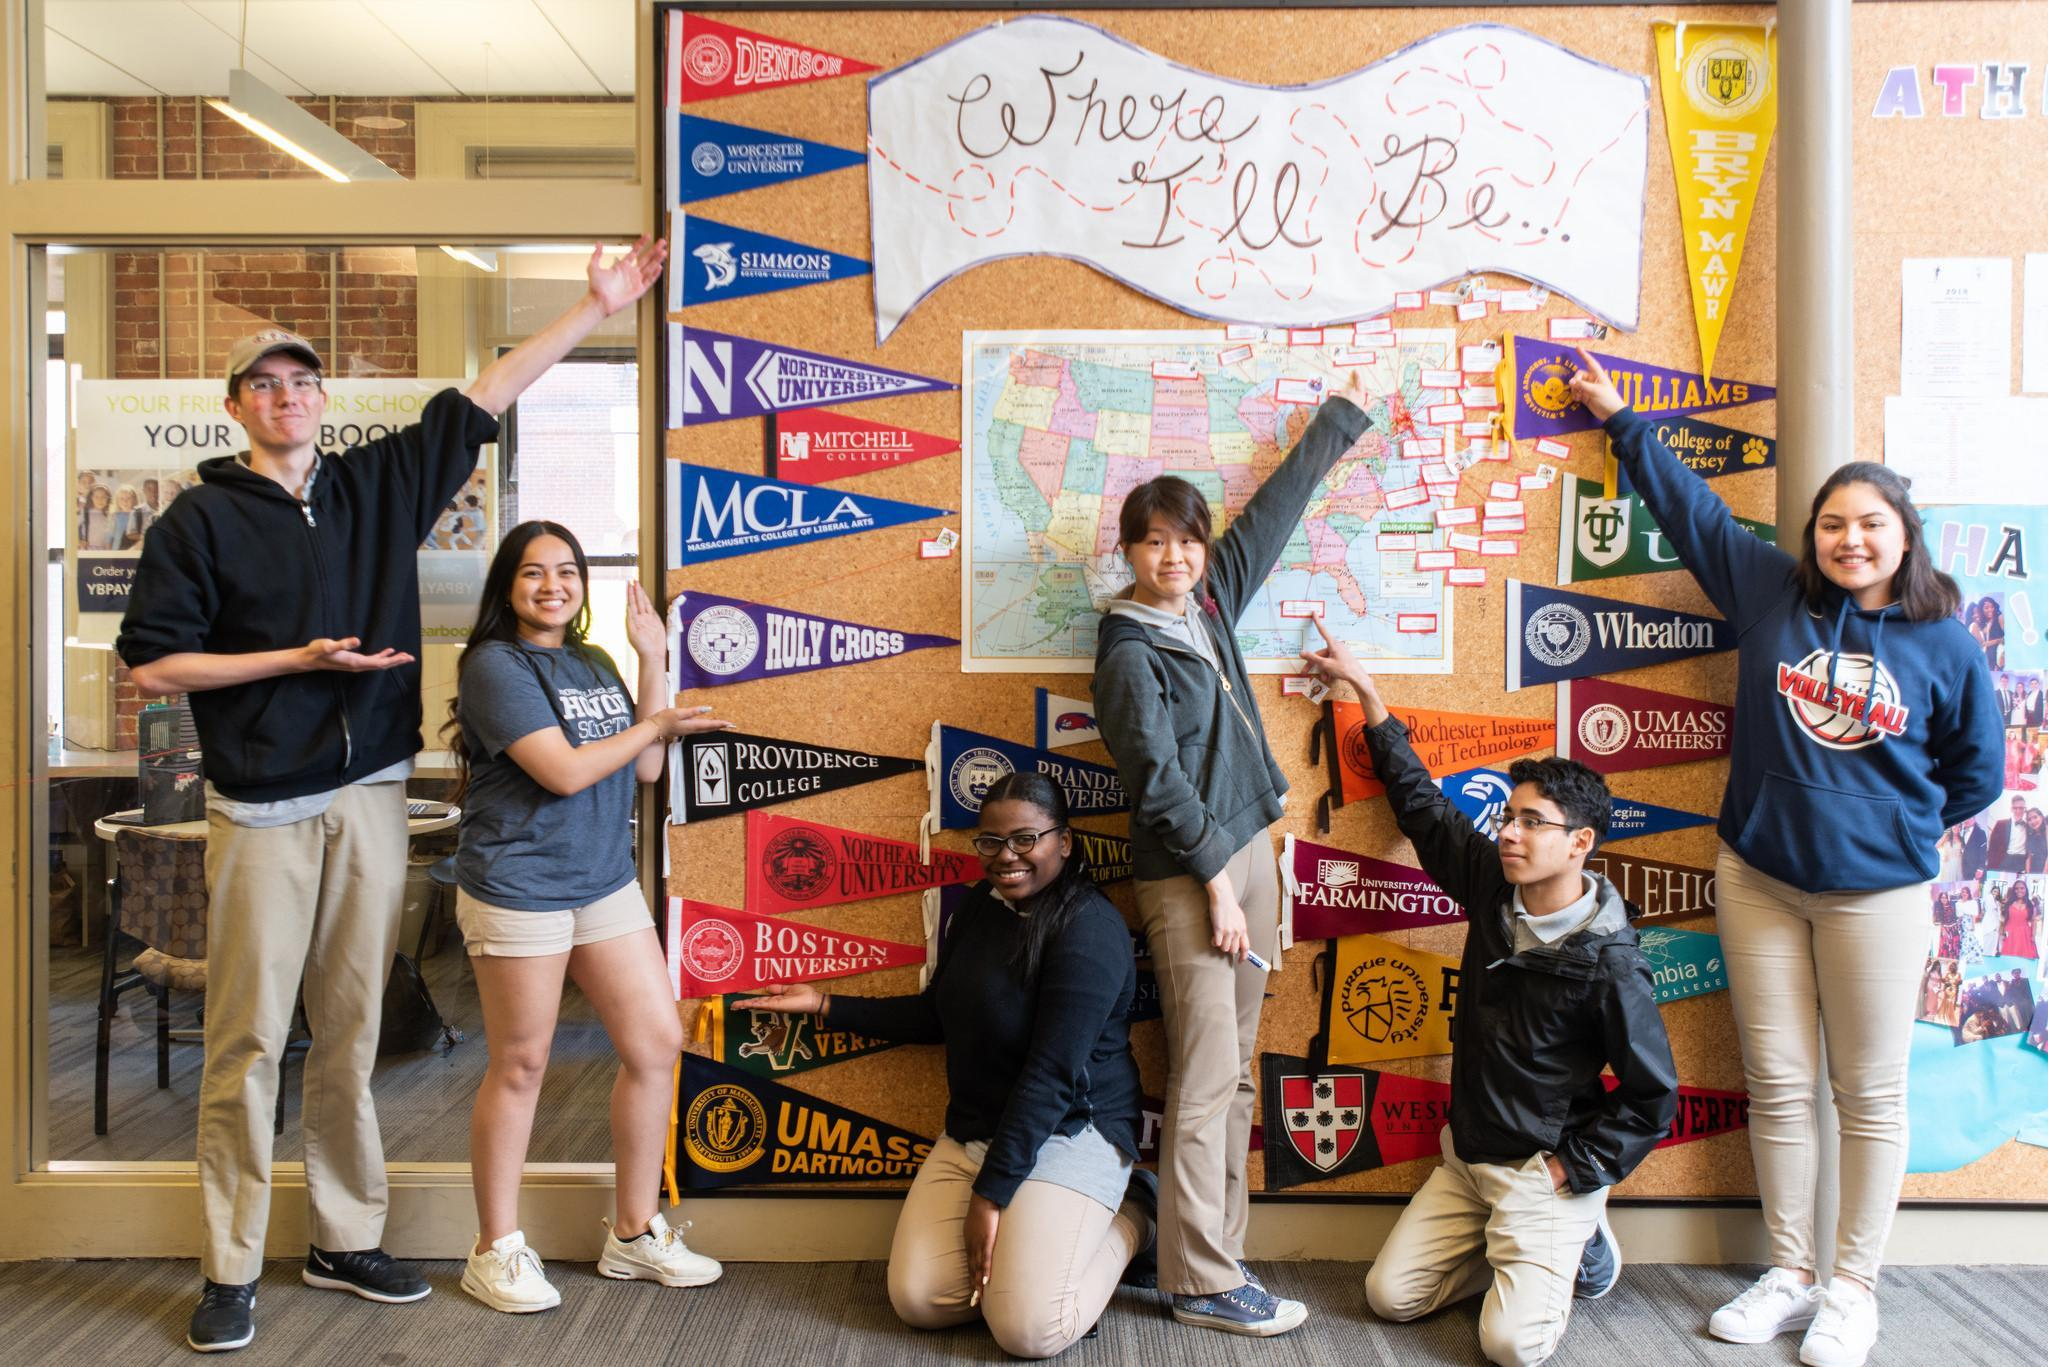Person: (144, 343, 434, 1353), (1654, 453, 1974, 1283), (1064, 463, 1354, 1367), (1314, 713, 1634, 1367), (484, 543, 744, 1273)
